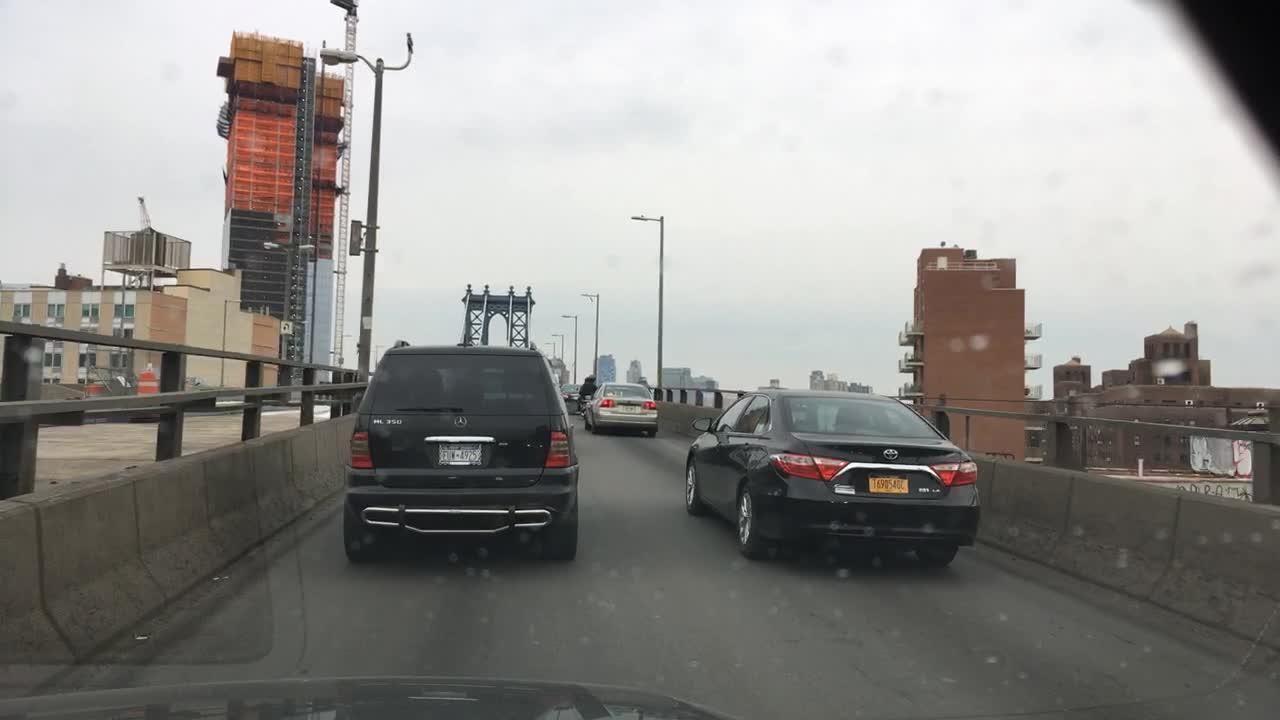Mercedes: (452, 414, 469, 430)
Toyota: (881, 446, 900, 461)
